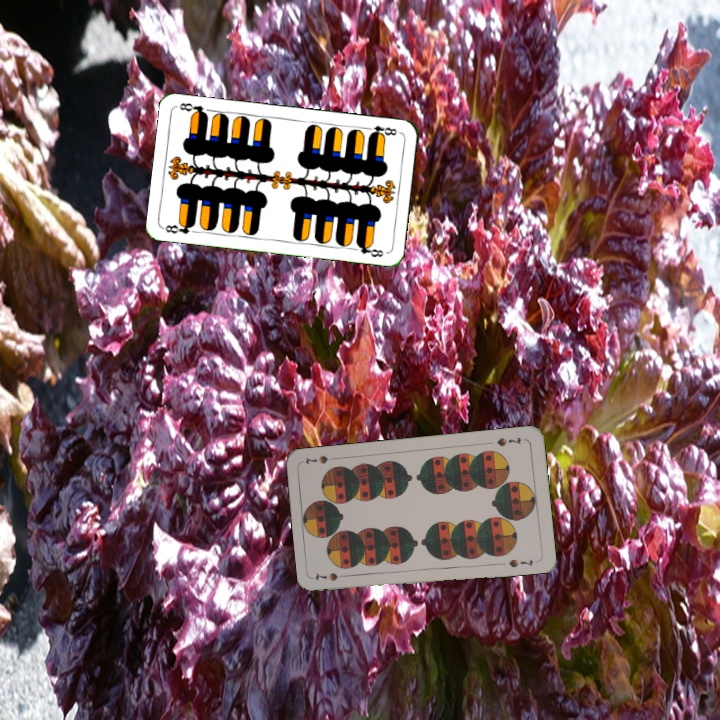E8: (361, 122, 399, 140), (160, 218, 198, 236)
S7: (311, 569, 352, 584), (493, 433, 524, 449)
